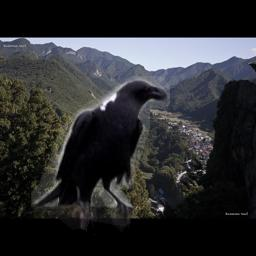Crow: (30, 76, 170, 235)
